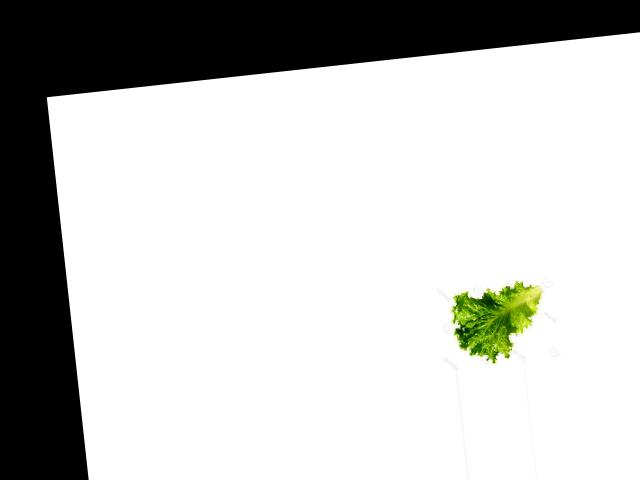lettuce: (449, 283, 550, 365)
